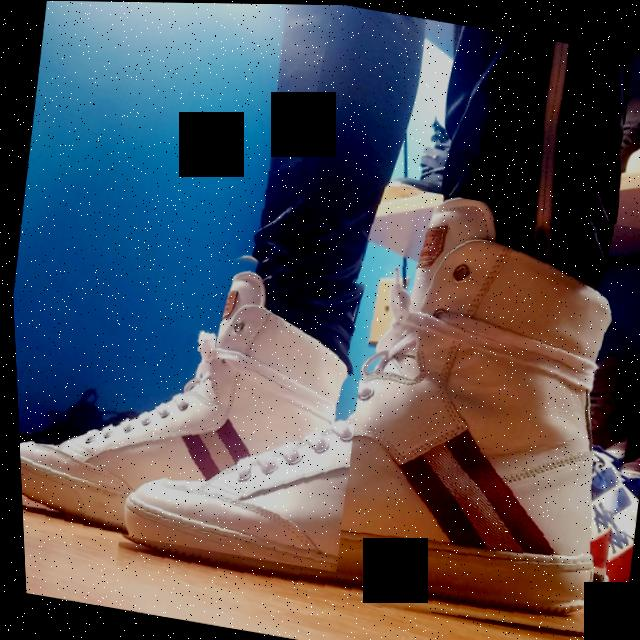shoe: (95, 145, 640, 640), (7, 210, 381, 572)
